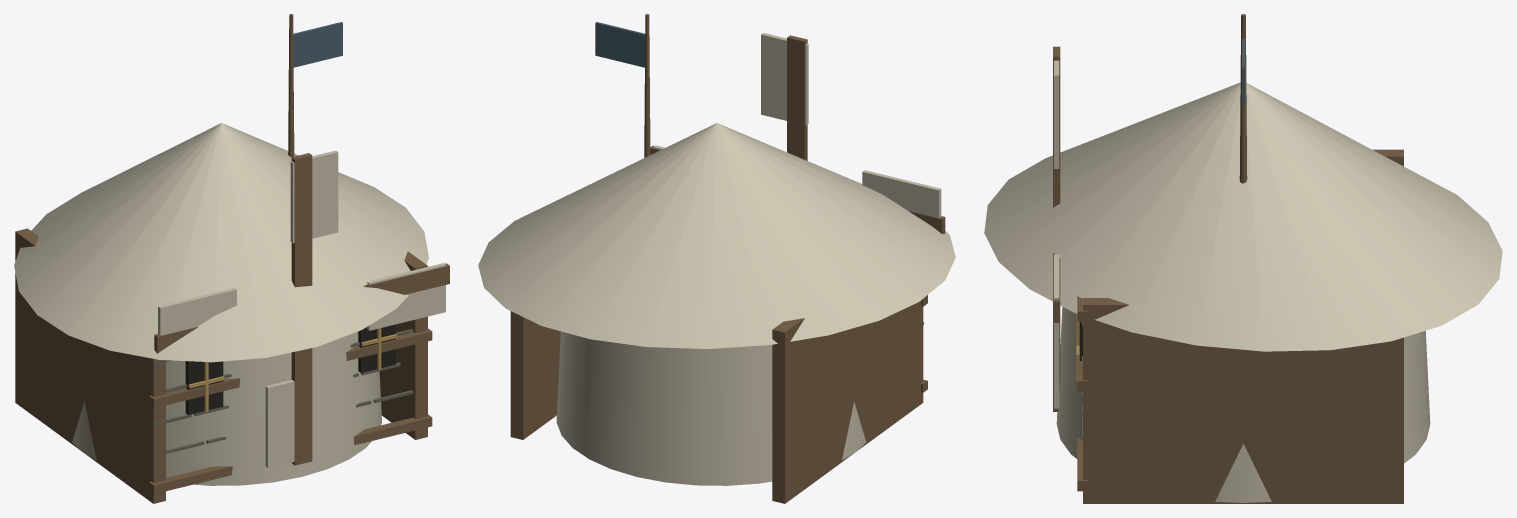
Rendered from b-mill-steppe.glb.
3 views of the same model, side by side, from view 1: azimuth 30°, elevation 25°; view 2: azimuth 150°, elevation 25°; view 3: azimuth 270°, elevation 25° (orthographic). The views are drawn at different scales.
Parts seen in each view (by area): view 1: Structure, sail0, sail2, sail3, sail1; view 2: Structure, sail0, sail1; view 3: Structure, sail0, sail3.
Boxes of the visible parts, <box> form: Structure: <box>14,14,432,503</box>; sail0: <box>290,150,338,287</box>; sail2: <box>265,348,313,467</box>; sail3: <box>363,263,449,330</box>; sail1: <box>154,288,236,353</box>; Structure: <box>478,14,955,503</box>; sail0: <box>761,33,808,160</box>; sail1: <box>862,170,945,233</box>; Structure: <box>984,14,1502,503</box>; sail0: <box>1053,46,1060,207</box>; sail3: <box>1053,253,1060,352</box>.
Size of the model in its own units: 5.55 by 5.33 by 5.55.
